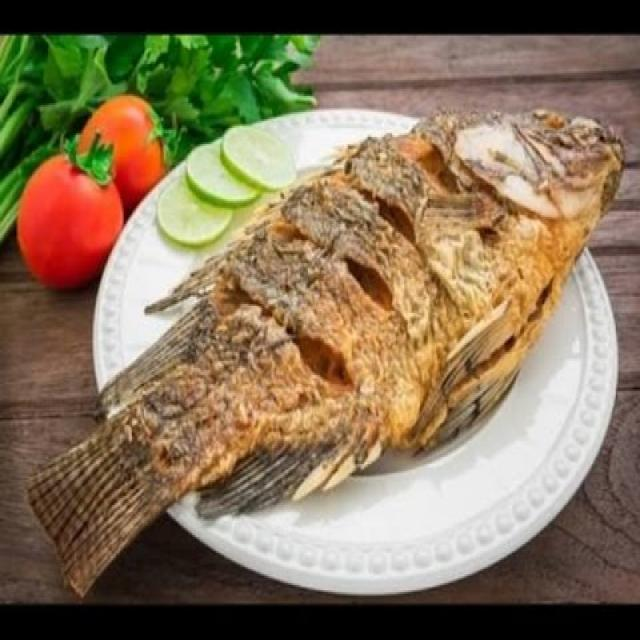Peixe: (24, 103, 625, 597)
